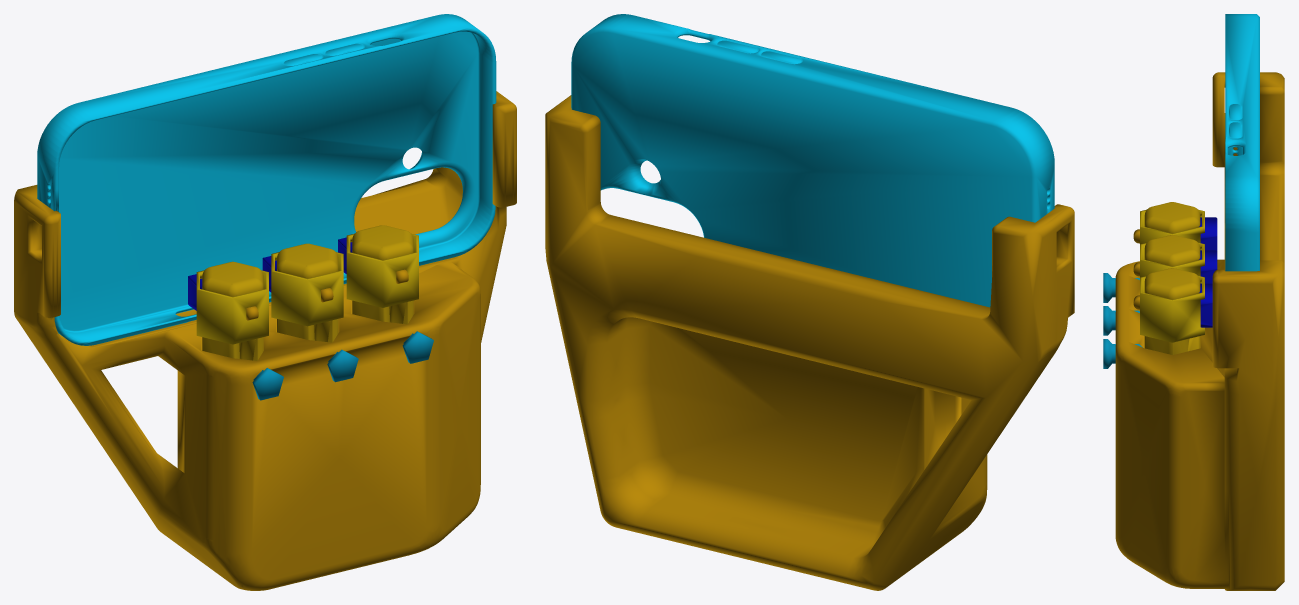
Rendered from websiteModel.glb.
3 renders of one model, left to right at view 1: azimuth 30°, elevation 25°; view 2: azimuth 150°, elevation 25°; view 3: azimuth 270°, elevation 25°, orthographic. The views are drawn at different scales.
Parts seen in each view (by area): view 1: trumpetBody.001, iphone-16-case_loweredAndFlushed, pinSkin.002, pinSkin, pinSkin.001, Pin, Pin.001, Pin.002, pinHolder, pinHolder.002, pinHolder.001; view 2: trumpetBody.001, iphone-16-case_loweredAndFlushed; view 3: trumpetBody.001, iphone-16-case_loweredAndFlushed, pinSkin.002, Pin.002, Pin.001, Pin, pinSkin.001, pinSkin, foamHolder.002, foamHolder, foamHolder.001, pinHolder.001 (+2 smaller).
Part boxes in pixels (bbox=[...]): trumpetBody.001: bbox=[14, 91, 516, 590]; iphone-16-case_loweredAndFlushed: bbox=[37, 14, 496, 345]; pinSkin.002: bbox=[346, 233, 418, 307]; pinSkin: bbox=[196, 270, 268, 344]; pinSkin.001: bbox=[271, 252, 343, 326]; Pin: bbox=[202, 261, 263, 360]; Pin.001: bbox=[277, 243, 338, 342]; Pin.002: bbox=[352, 225, 413, 324]; pinHolder: bbox=[252, 368, 283, 400]; pinHolder.002: bbox=[402, 331, 433, 363]; pinHolder.001: bbox=[327, 349, 358, 382]; trumpetBody.001: bbox=[545, 95, 1074, 590]; iphone-16-case_loweredAndFlushed: bbox=[571, 14, 1054, 307]; trumpetBody.001: bbox=[1115, 72, 1284, 590]; iphone-16-case_loweredAndFlushed: bbox=[1225, 14, 1259, 271]; pinSkin.002: bbox=[1140, 275, 1204, 342]; Pin.002: bbox=[1144, 268, 1200, 354]; Pin.001: bbox=[1144, 235, 1200, 266]; Pin: bbox=[1144, 202, 1200, 233]; pinSkin.001: bbox=[1140, 242, 1204, 277]; pinSkin: bbox=[1140, 209, 1204, 243]; foamHolder.002: bbox=[1199, 283, 1212, 327]; foamHolder: bbox=[1199, 217, 1217, 250]; foamHolder.001: bbox=[1199, 250, 1217, 283]; pinHolder.001: bbox=[1103, 306, 1139, 335].
Size of the model in its own units: 0.1613 by 0.1512 by 0.0594.
